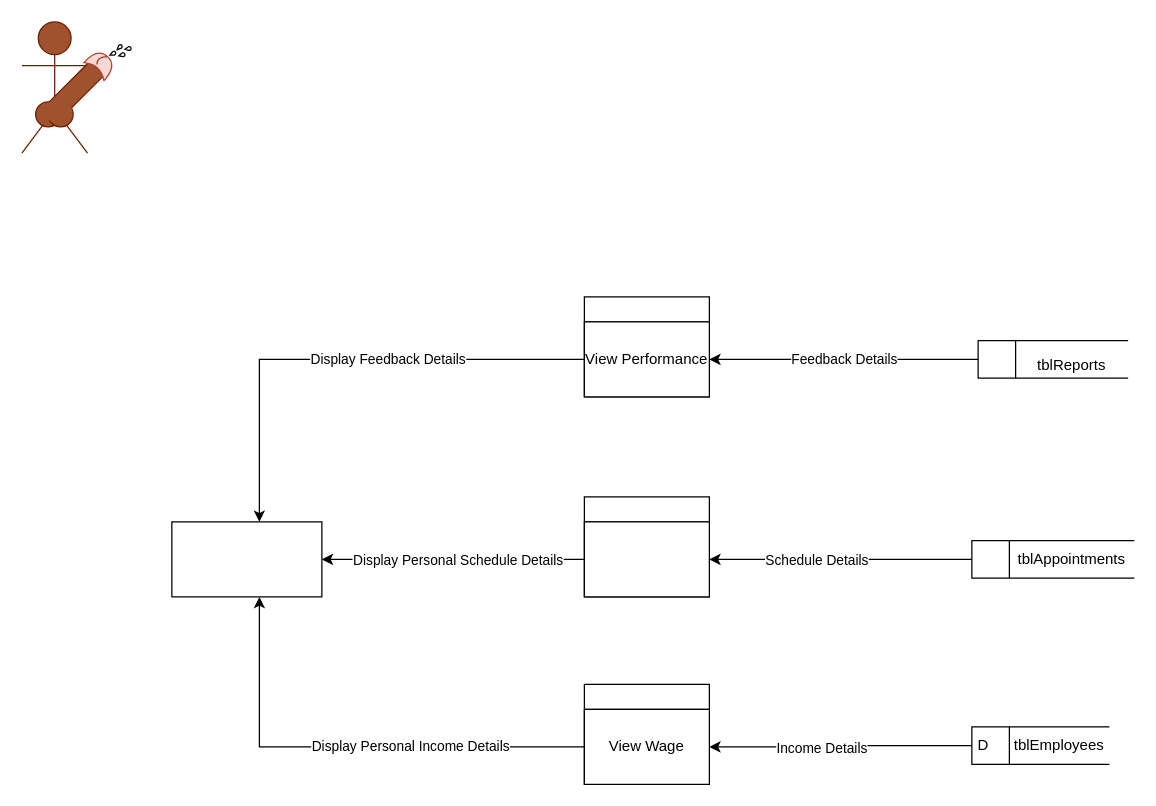
The diagram is 1156 pixels wide and 806 high, and some of its shapes have lost their labels. Each missing label, with the box of its shape:
Barber: (171, 521, 322, 597)
View Assigned Appointments: (583, 521, 709, 597)
